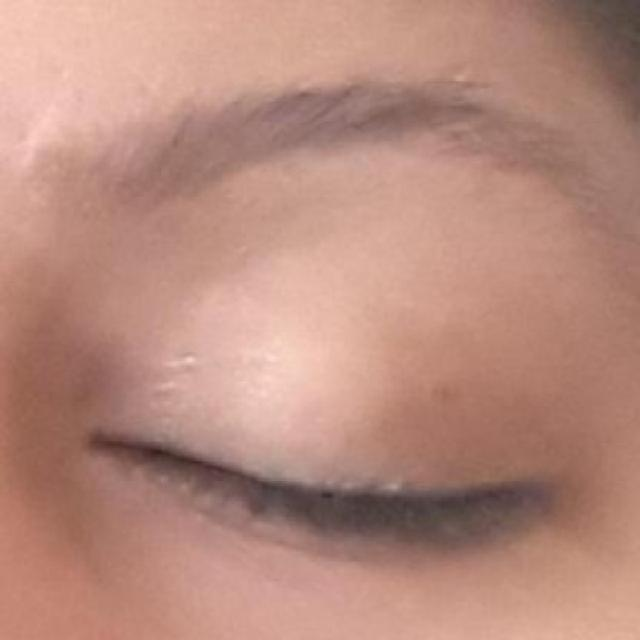drowsy: (91, 301, 546, 640)
